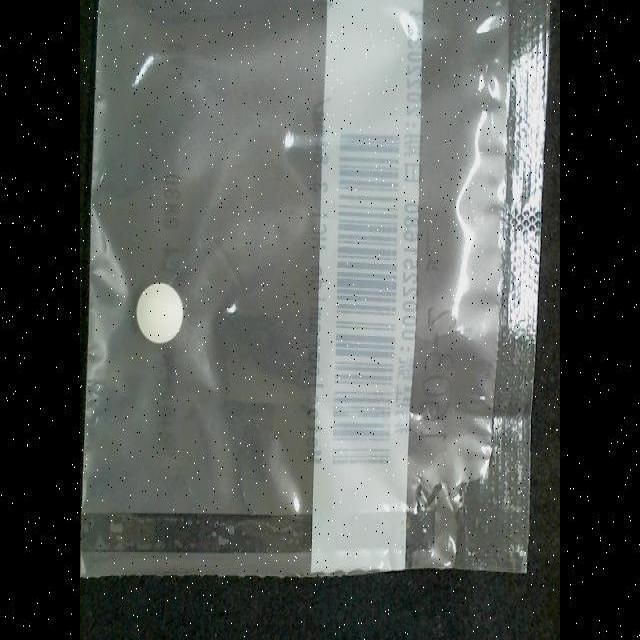pill: (132, 282, 186, 346)
